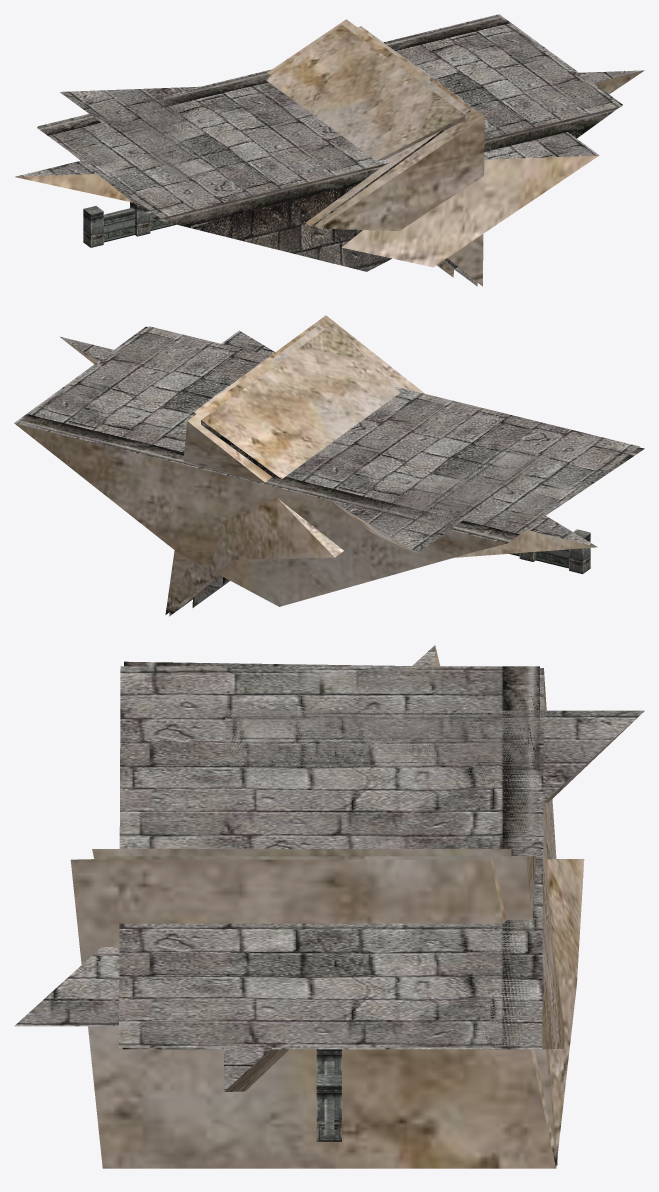
File: bridge01.obj
The picture shows the model from 3 angles, top to bottom: view 1: azimuth 30°, elevation 25°; view 2: azimuth 150°, elevation 25°; view 3: azimuth 270°, elevation 25°; orthographic projection. The views are drawn at different scales.
Visible parts, largest first — view 1: 7, 3, 1, 5, 0, 2, 4, 6, 8; view 2: 7, 5, 1, 2, 0, 4, 3, 8; view 3: 7, 0, 2, 5, 3, 4, 1, 6, 8.
Part boxes in pixels (left/top/right/bottom): 7: left=37, top=15, right=621, bottom=219; 3: left=15, top=132, right=599, bottom=267; 1: left=266, top=24, right=465, bottom=277; 5: left=38, top=14, right=622, bottom=271; 0: left=314, top=26, right=484, bottom=286; 2: left=60, top=70, right=644, bottom=181; 4: left=267, top=19, right=477, bottom=286; 6: left=91, top=206, right=175, bottom=247; 8: left=83, top=202, right=137, bottom=247; 7: left=19, top=326, right=639, bottom=549; 5: left=14, top=326, right=644, bottom=606; 1: left=192, top=324, right=399, bottom=607; 2: left=59, top=336, right=549, bottom=552; 0: left=165, top=315, right=424, bottom=614; 4: left=169, top=324, right=407, bottom=616; 3: left=221, top=330, right=597, bottom=557; 8: left=509, top=529, right=590, bottom=573; 7: left=119, top=666, right=539, bottom=1047; 0: left=70, top=859, right=584, bottom=1168; 2: left=223, top=710, right=644, bottom=1091; 5: left=122, top=661, right=564, bottom=1049; 3: left=14, top=645, right=440, bottom=1026; 4: left=106, top=856, right=557, bottom=1165; 1: left=92, top=848, right=512, bottom=859; 6: left=316, top=1049, right=341, bottom=1141; 8: left=316, top=1061, right=341, bottom=1135.
Bounding box in the file's own units: 353 × 106 × 201.
